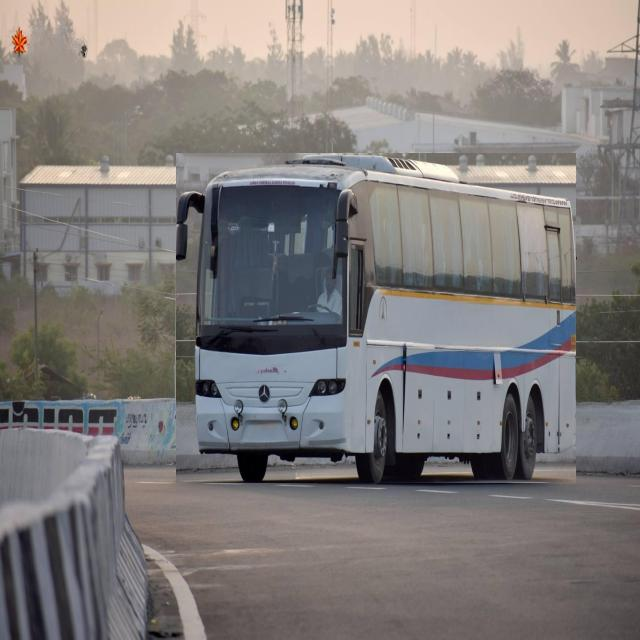bus: (176, 154, 576, 483)
